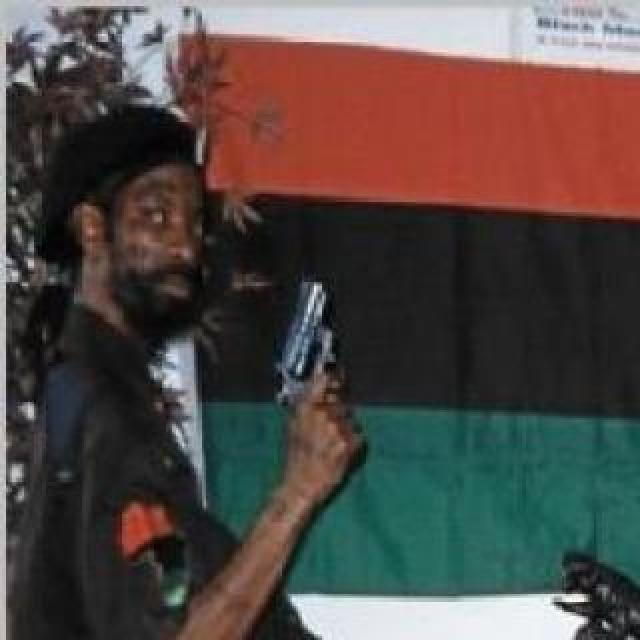Guns: (272, 277, 344, 416)
